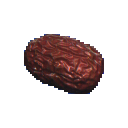gd: (14, 23, 121, 121)
